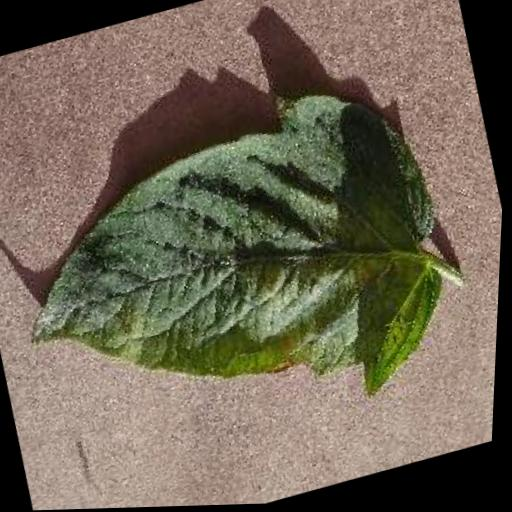Spider Mites: (0, 61, 483, 485)
